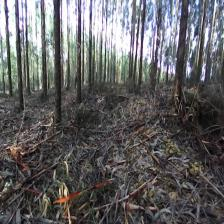trunk: (174, 7, 188, 92), (150, 14, 161, 94), (195, 11, 207, 82), (53, 8, 60, 125), (15, 20, 24, 110), (4, 12, 12, 95), (77, 7, 82, 102), (41, 14, 47, 93), (137, 30, 144, 89), (25, 27, 30, 96), (88, 11, 92, 90), (132, 39, 138, 80)
